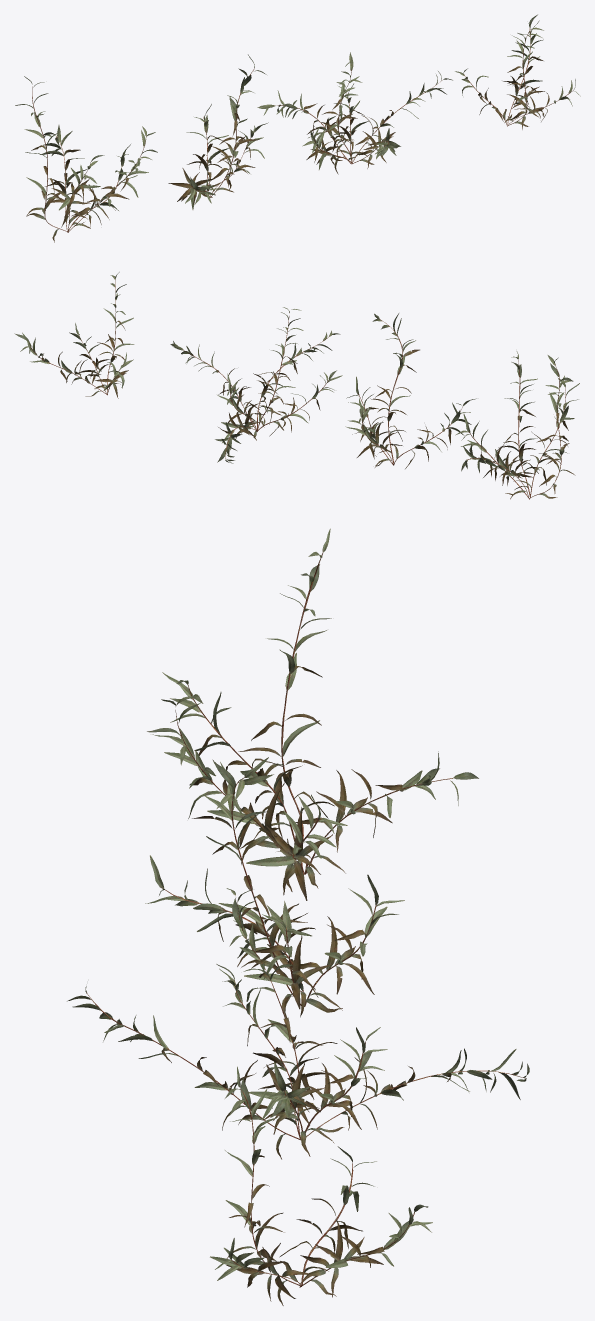
File: shrub_02.glb
3 renders of one model, top to bottom at view 1: azimuth 30°, elevation 25°; view 2: azimuth 150°, elevation 25°; view 3: azimuth 270°, elevation 25°, orthographic. The views are drawn at different scales.
Parts seen in each view (by area): view 1: shrub_02_c, shrub_02_a, shrub_02_b, shrub_02_d; view 2: shrub_02_a, shrub_02_c, shrub_02_b, shrub_02_d; view 3: shrub_02_a, shrub_02_c, shrub_02_b, shrub_02_d.
Boxes of the visible parts, x1,y1,x2,y2 form: shrub_02_c: (257,52,452,174); shrub_02_a: (15,76,157,242); shrub_02_b: (168,54,268,209); shrub_02_d: (455,14,580,129); shrub_02_a: (455,351,579,499); shrub_02_c: (170,307,342,463); shrub_02_b: (345,313,476,468); shrub_02_d: (14,272,134,398); shrub_02_a: (147,528,478,900); shrub_02_c: (67,888,529,1159); shrub_02_b: (145,757,404,1018); shrub_02_d: (210,1066,432,1305).
Size of the model in its own units: 6.05 by 1.7 by 2.29.
Materials: 1 (1 with a texture image).
